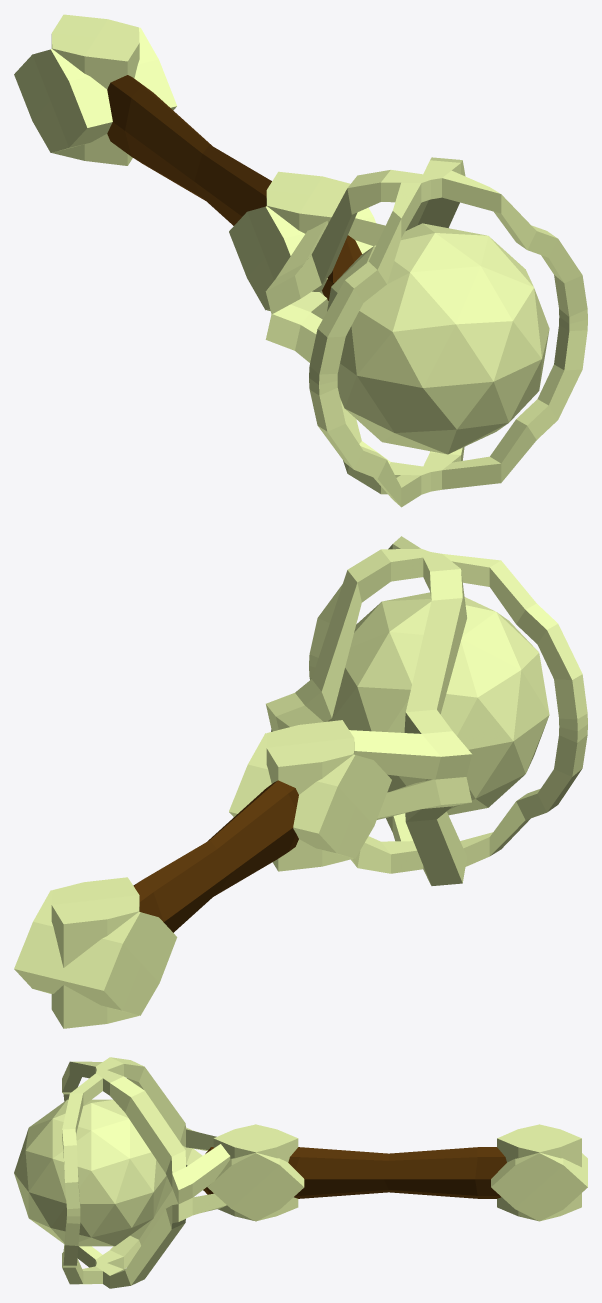
The model's file is Magic.fbx.
3 renders of one model, top to bottom at view 1: azimuth 30°, elevation 25°; view 2: azimuth 150°, elevation 25°; view 3: azimuth 270°, elevation 25°, orthographic. The views are drawn at different scales.
Parts seen in each view (by area): view 1: Icosphere, Cube.001, Cube, Cube.006, Cube.003, Cube.004, Cube.005; view 2: Cube.001, Icosphere, Cube, Cube.006, Cube.004, Cube.003, Cube.005; view 3: Cube.001, Icosphere, Cube, Cube.006, Cube.004, Cube.003, Cube.005.
Boxes of the visible parts, x1,y1,x2,y2 form: Icosphere: [327, 223, 549, 454]; Cube.001: [265, 157, 587, 507]; Cube: [107, 75, 361, 300]; Cube.006: [14, 27, 176, 152]; Cube.003: [51, 14, 139, 165]; Cube.004: [229, 206, 375, 310]; Cube.005: [266, 171, 350, 310]; Cube.001: [266, 536, 587, 885]; Icosphere: [327, 592, 549, 815]; Cube: [133, 780, 298, 932]; Cube.006: [14, 890, 177, 1015]; Cube.004: [229, 733, 391, 858]; Cube.003: [51, 877, 139, 1028]; Cube.005: [266, 720, 354, 871]; Cube.001: [62, 1057, 230, 1288]; Icosphere: [14, 1099, 166, 1246]; Cube: [203, 1147, 506, 1198]; Cube.006: [491, 1152, 587, 1221]; Cube.004: [207, 1152, 304, 1221]; Cube.003: [497, 1124, 581, 1220]; Cube.005: [213, 1124, 298, 1220].
Size of the model in its own units: 37.64 by 41.68 by 105.
